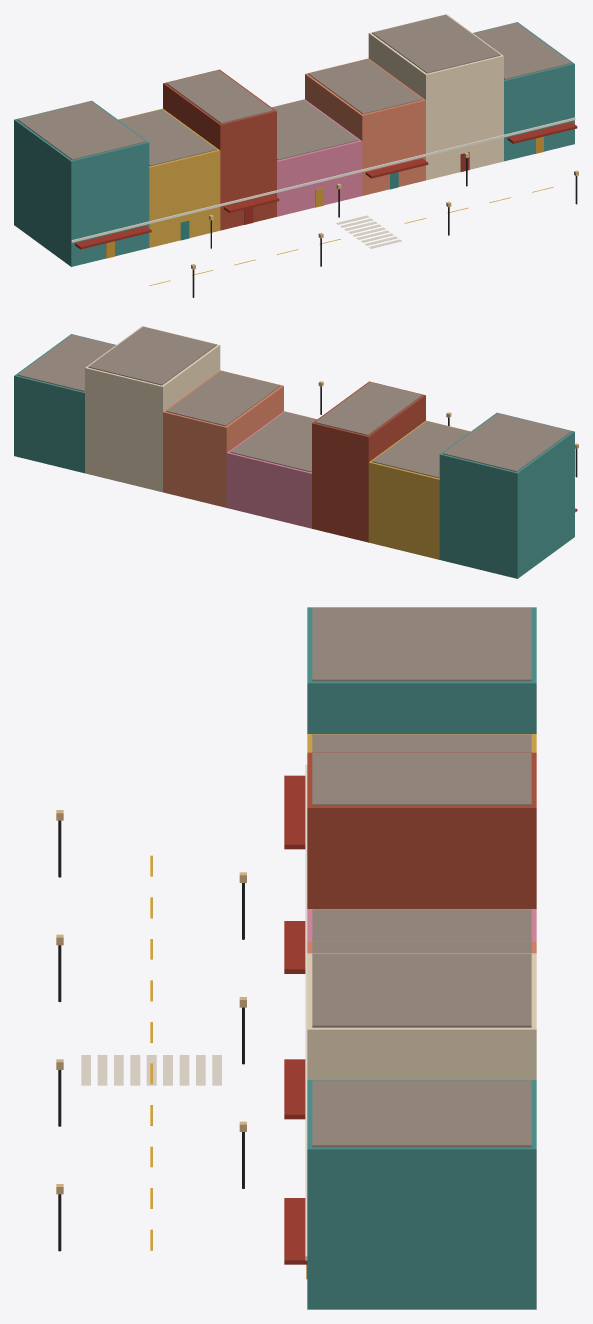
Rendered from chunk_1_-2.glb.
3 renders of one model, top to bottom at view 1: azimuth 30°, elevation 25°; view 2: azimuth 150°, elevation 25°; view 3: azimuth 270°, elevation 25°, orthographic. The views are drawn at different scales.
Visible parts, largest first — view 1: chunk_1_-2__building, chunk_1_-2__ground, chunk_1_-2__lamp; view 2: chunk_1_-2__building; view 3: chunk_1_-2__building, chunk_1_-2__ground, chunk_1_-2__lamp.
Boxes of the visible parts, left/top/right/bottom form: chunk_1_-2__building: left=14, top=14, right=577, bottom=266; chunk_1_-2__ground: left=149, top=187, right=553, bottom=285; chunk_1_-2__lamp: left=191, top=152, right=578, bottom=297; chunk_1_-2__building: left=14, top=326, right=577, bottom=578; chunk_1_-2__building: left=284, top=607, right=536, bottom=1309; chunk_1_-2__ground: left=81, top=855, right=221, bottom=1250; chunk_1_-2__lamp: left=56, top=810, right=246, bottom=1251.
Bounding box in the file's own units: 71 × 14.32 × 29.32.
